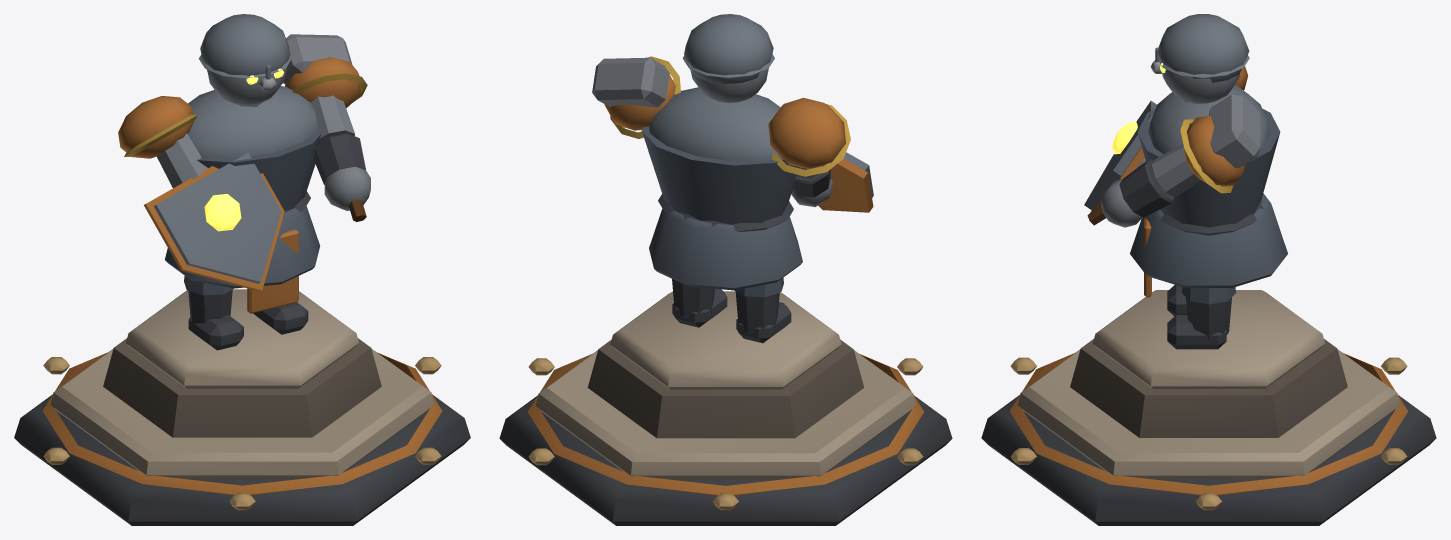
File: nains_7.glb
The picture shows the model from 3 angles, left to right: view 1: azimuth 30°, elevation 25°; view 2: azimuth 150°, elevation 25°; view 3: azimuth 270°, elevation 25°; orthographic projection.
Visible parts, largest first — view 1: nains_7_peint, Buste_peint, ArmeG_peint, BrasD_peint, Crane_peint, BrasG_peint, JambeG_peint, Arme_peint, JambeD_peint, Embleme; view 2: nains_7_peint, Buste_peint, Crane_peint, BrasG_peint, Arme_peint, JambeG_peint, ArmeG_peint, JambeD_peint, BrasD_peint; view 3: nains_7_peint, Buste_peint, BrasD_peint, Crane_peint, JambeD_peint, Arme_peint, ArmeG_peint.
Boxes of the visible parts, box(x1,y1,x2,y2) form: nains_7_peint: box(14, 289, 470, 525); Buste_peint: box(165, 86, 321, 313); ArmeG_peint: box(144, 153, 284, 291); BrasD_peint: box(285, 57, 370, 210); Crane_peint: box(198, 14, 291, 105); BrasG_peint: box(118, 96, 207, 187); JambeG_peint: box(184, 276, 243, 350); Arme_peint: box(283, 34, 366, 221); JambeD_peint: box(253, 302, 308, 334); Embleme: box(204, 194, 241, 231); nains_7_peint: box(499, 291, 952, 525); Buste_peint: box(641, 87, 802, 290); Crane_peint: box(682, 14, 774, 102); BrasG_peint: box(768, 97, 850, 207); Arme_peint: box(592, 57, 669, 107); JambeG_peint: box(734, 278, 791, 343); ArmeG_peint: box(818, 152, 873, 212); JambeD_peint: box(672, 279, 727, 327); BrasD_peint: box(604, 56, 680, 138); nains_7_peint: box(981, 290, 1436, 525); Buste_peint: box(1130, 85, 1287, 297); BrasD_peint: box(1101, 115, 1246, 227); Crane_peint: box(1150, 14, 1249, 103); JambeD_peint: box(1167, 287, 1235, 349); Arme_peint: box(1087, 94, 1259, 225); ArmeG_peint: box(1084, 101, 1156, 212).
Size of the model in its own units: 0.8433 by 0.8797 by 0.8517.
